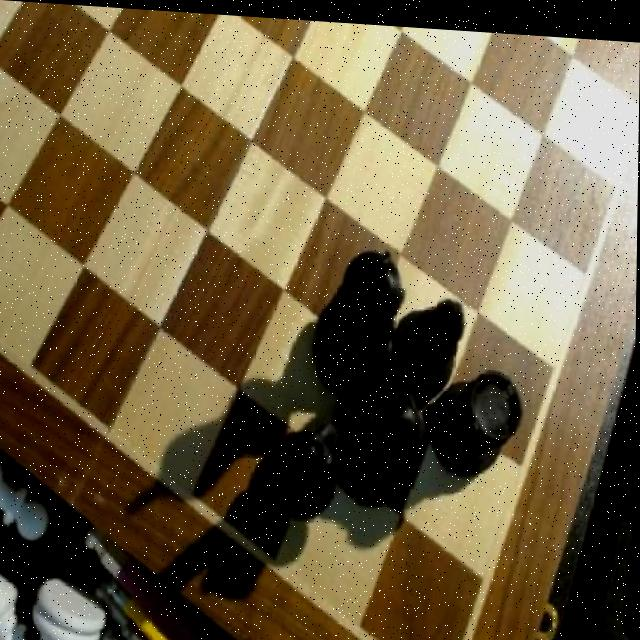bishop: (396, 285, 470, 395)
black-bishop: (311, 229, 405, 401)
black-king: (273, 402, 345, 525)
black-pawn: (342, 377, 427, 509)
black-queen: (432, 360, 530, 481)
